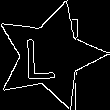L_N: (33, 30, 67, 81)
